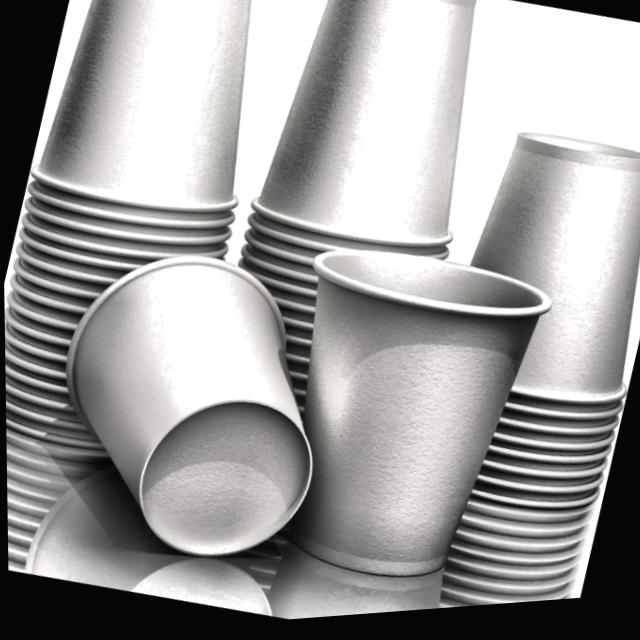Cup: (175, 0, 525, 533), (0, 0, 306, 490), (14, 213, 366, 602), (237, 215, 560, 621), (400, 107, 640, 547)
